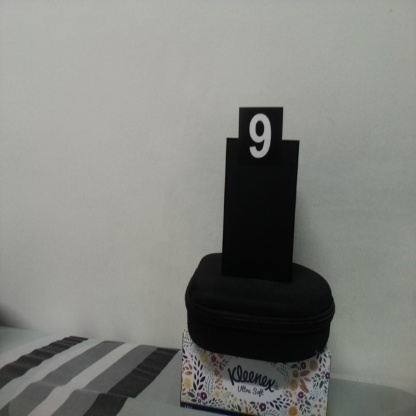id_9: (238, 109, 283, 170)
